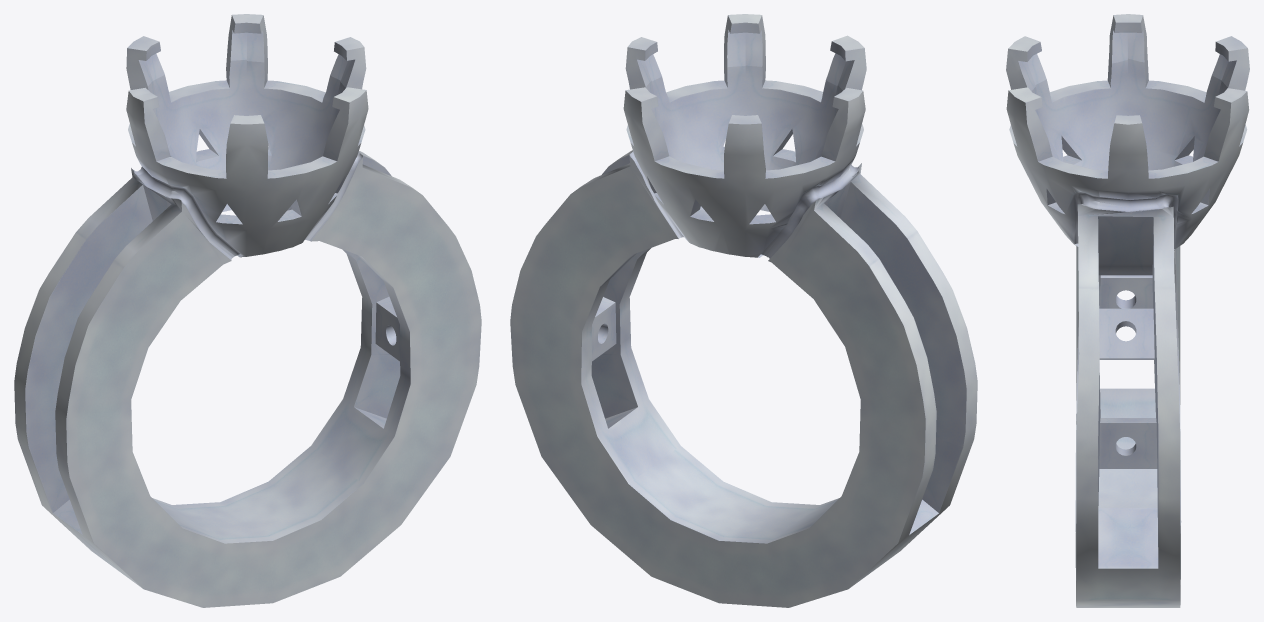
The picture shows the model from 3 angles, left to right: view 1: azimuth 30°, elevation 25°; view 2: azimuth 150°, elevation 25°; view 3: azimuth 270°, elevation 25°; orthographic projection.
Parts seen in each view (by area): view 1: 407_PaoGuang_YinJie; view 2: 407_PaoGuang_YinJie; view 3: 407_PaoGuang_YinJie.
Boxes of the visible parts, x1,y1,x2,y2 form: 407_PaoGuang_YinJie: [14, 14, 481, 607]; 407_PaoGuang_YinJie: [510, 14, 977, 607]; 407_PaoGuang_YinJie: [1006, 14, 1249, 607].
Size of the model in its own units: 2.21 by 2.61 by 1.12.
1 material, 1 textured.
